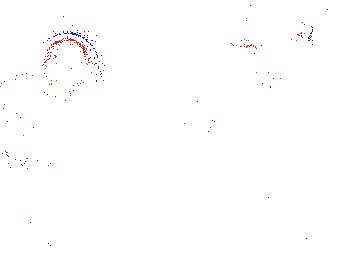moon jellyfish: (146, 115, 249, 213), (269, 12, 344, 105), (1, 72, 73, 163), (32, 32, 100, 104), (222, 1, 314, 49)
